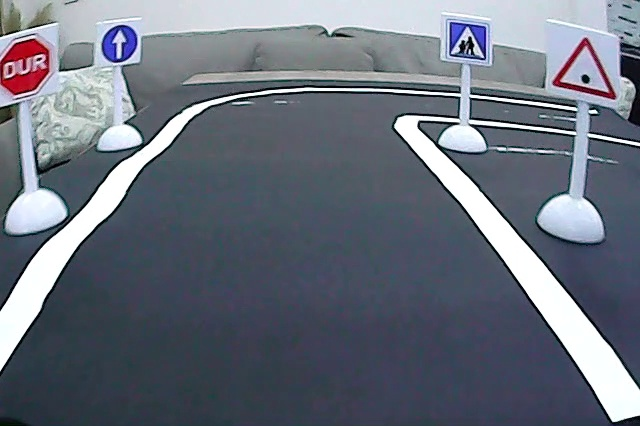green light: (550, 33, 620, 105)
school crossing: (446, 17, 490, 63)
stop sign: (1, 34, 57, 100)
